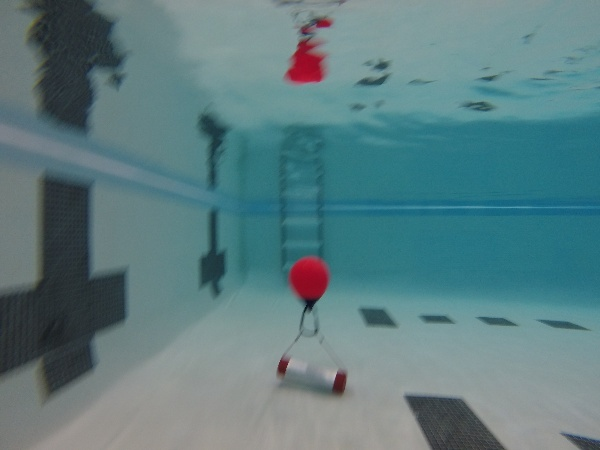buoy_red: (288, 256, 328, 308)
